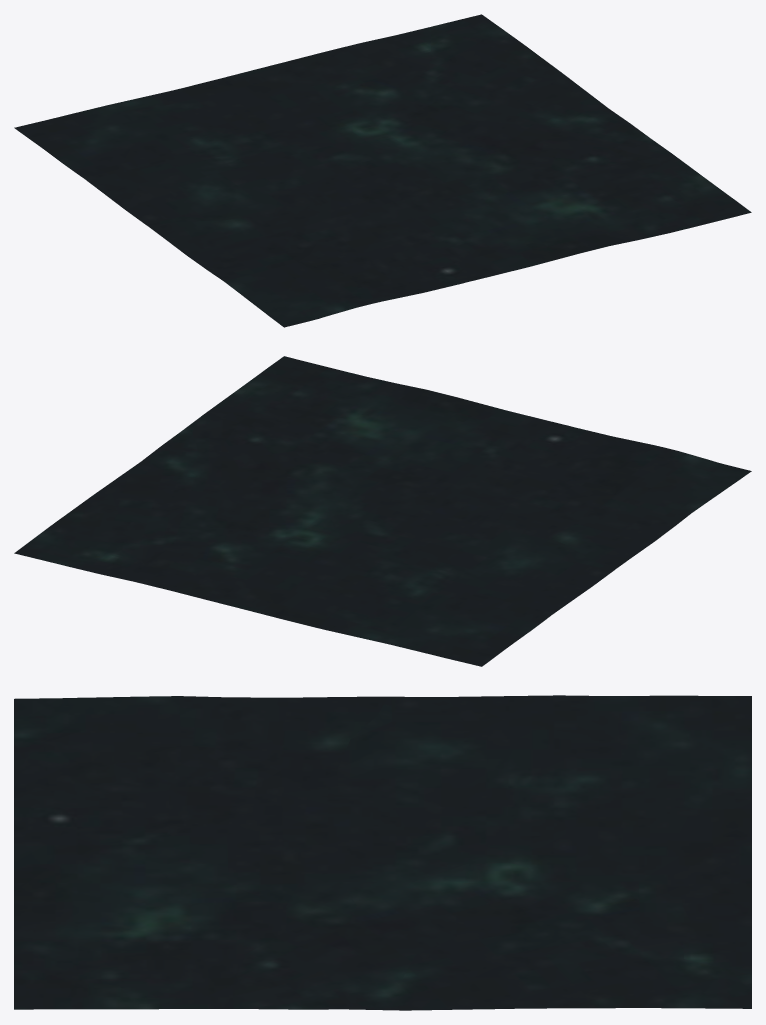
3 renders of one model, top to bottom at view 1: azimuth 30°, elevation 25°; view 2: azimuth 150°, elevation 25°; view 3: azimuth 270°, elevation 25°, orthographic. The views are drawn at different scales.
Size of the model in its own units: 52.22 by 0.2757 by 52.22.
Materials: 2 (2 with a texture image).
